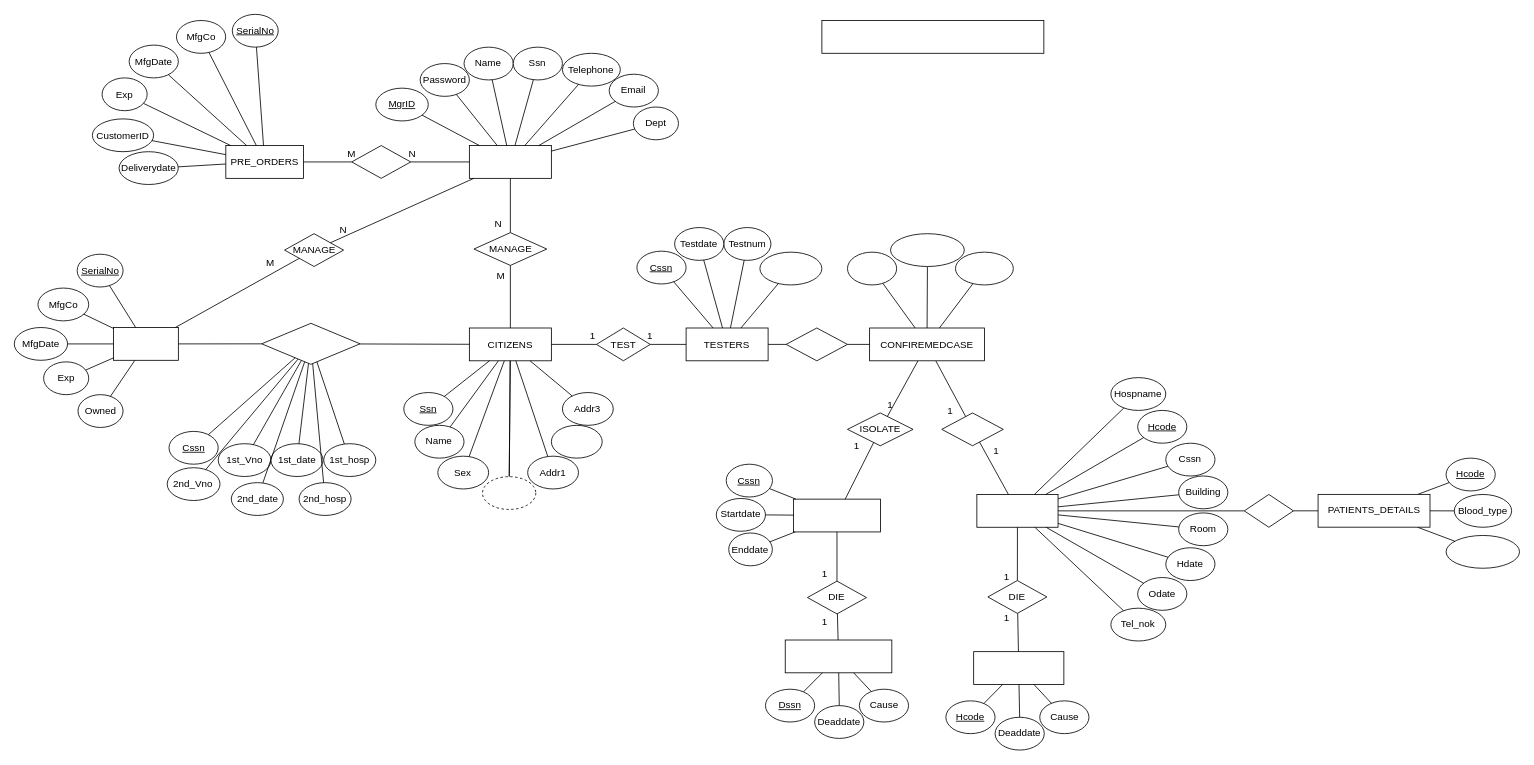
This 1534x765 diagram has some shape labels left out. Here are the shapes that lost their labels. From the top down, the centre of each, then its label:
pixel 932 36: Covid-19 Government Database
pixel 381 161: ORDER
pixel 510 161: MANAGERS
pixel 790 268: Testhospital
pixel 872 268: Tssn
pixel 927 249: Confirmeddate
pixel 984 268: Caretype
pixel 145 343: VACCINES
pixel 310 343: VACCINATE
pixel 816 344: Confirmed
pixel 576 441: Addr2
pixel 972 429: ADMIT
pixel 509 492: Age
pixel 1017 510: PATIENTS
pixel 1268 510: HAS
pixel 836 515: SELF_ISOLATERS
pixel 1482 551: Medical_history
pixel 838 656: DEAD_ISOLATERS
pixel 1018 667: DEAD_PATIENTS
